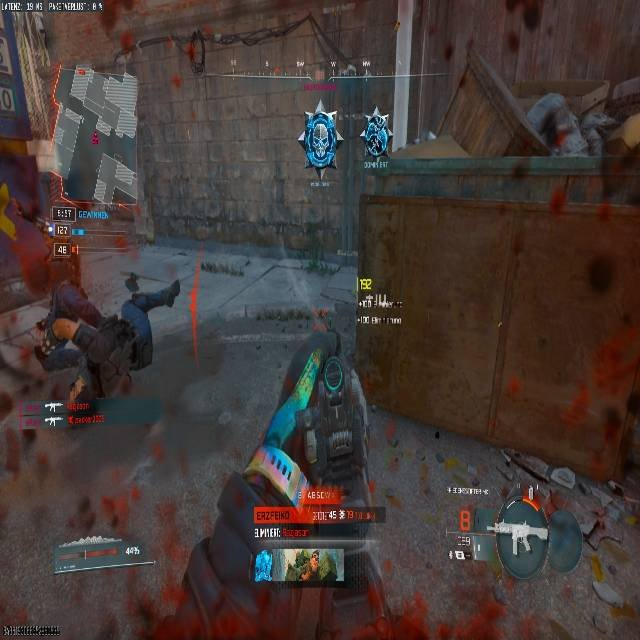head: (48, 281, 95, 323)
player: (361, 109, 390, 168)
